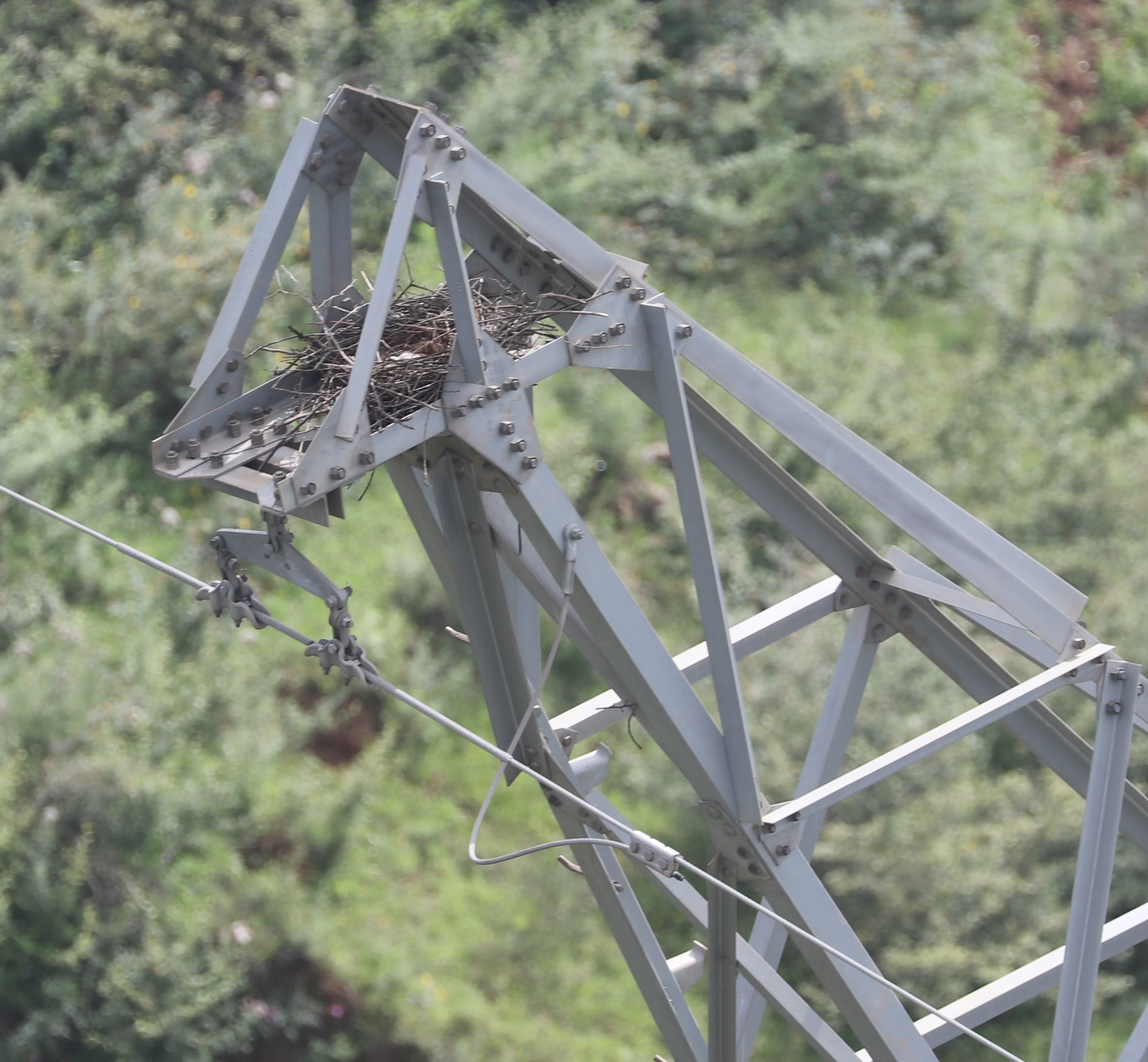nest: (267, 261, 547, 406)
